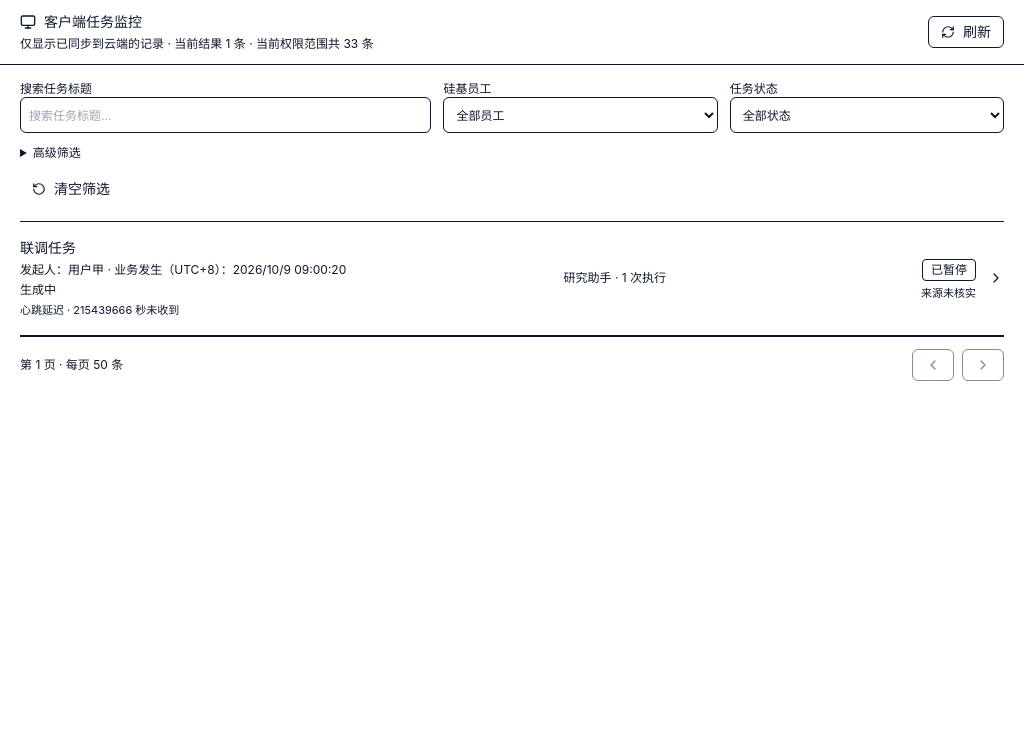
client monitor › displays complete multiline input/output, creator and update time on expansion
The width and height of the screenshot is (1024, 756).
What coordinates should you click on to do the following:
click the button "联调任务"
I would click on:
 (48, 248)
Its box is [20,222,1004,336].
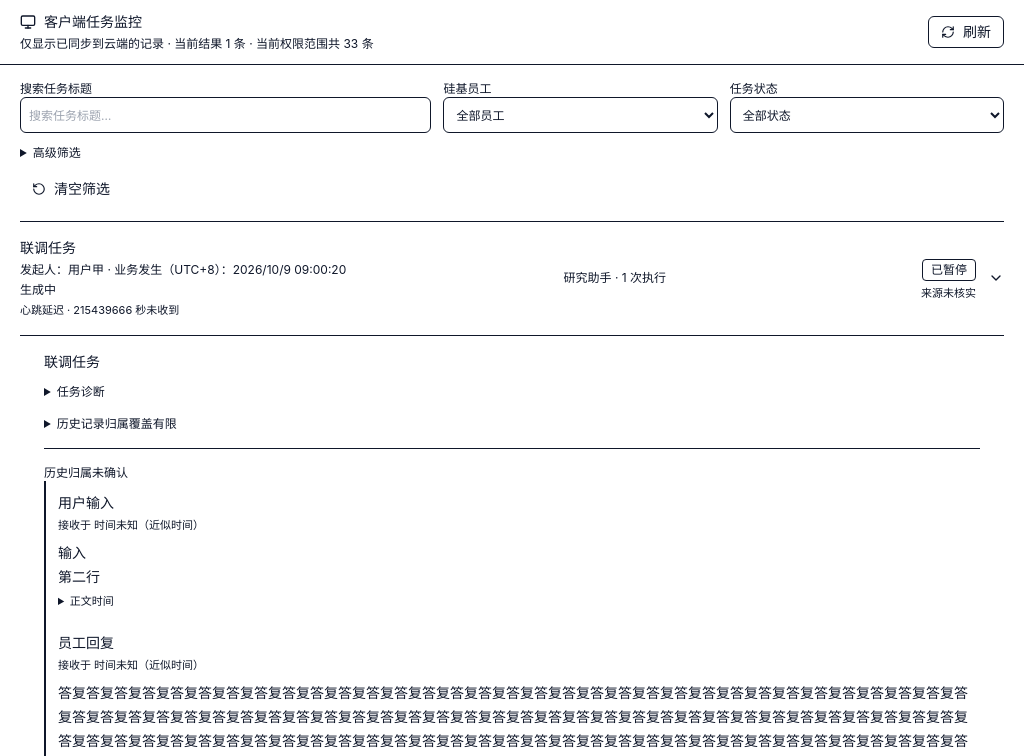
Result: the heading "用户输入" is shown at [58,494,114,510]
Result: the heading "员工回复" is shown at [58,634,114,650]
Result: the text "输入 第二行" is shown at [58,544,100,584]
